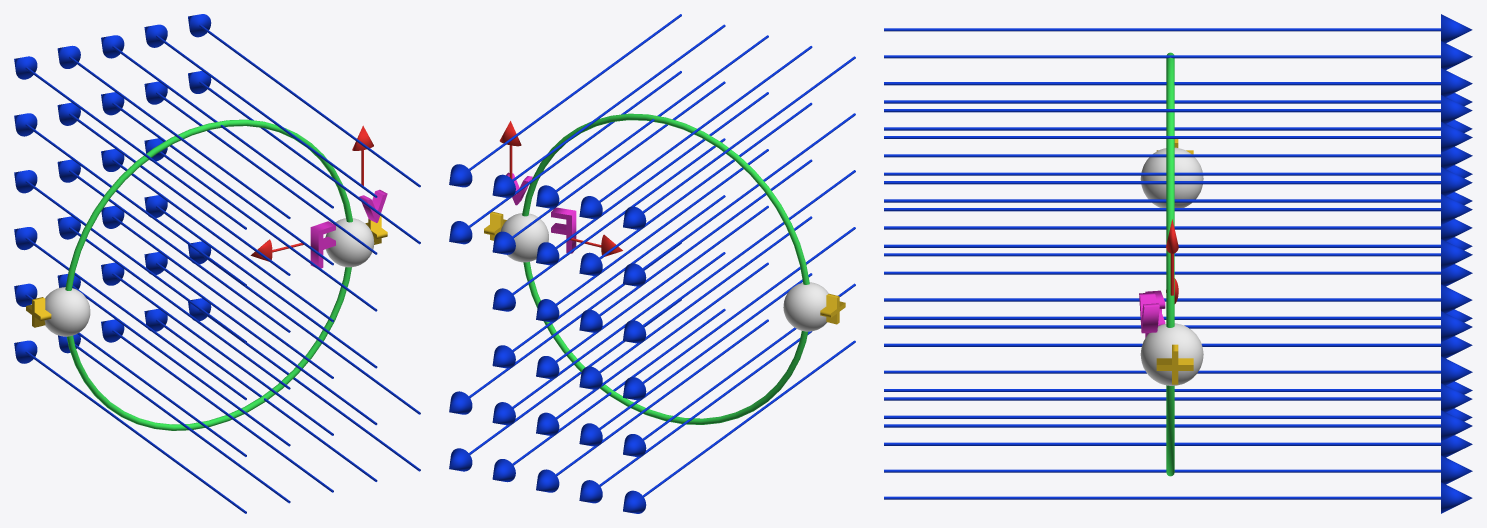
Rendered from Circular_motion.glb.
3 renders of one model, left to right at view 1: azimuth 30°, elevation 25°; view 2: azimuth 150°, elevation 25°; view 3: azimuth 270°, elevation 25°, orthographic. The views are drawn at different scales.
Parts seen in each view (by area): view 1: Torus.003, Sphere.001, Sphere, Surface.028, Surface.002, Surface.141, Surface.001, Surface.008, Surface.027, Surface.030, Surface.157, Surface.026 (+22 smaller); view 2: Torus.003, Sphere.001, Sphere, Surface.026, Surface.028, Surface.157, Surface.027, Surface.030, Surface.001, Surface.024, Surface.141, Surface.007 (+21 smaller); view 3: Torus.003, Sphere, Sphere.001, Surface.149, Surface.026, Surface.030, Surface.028, Surface.002, Surface.003, Surface.016, Surface.022, Surface.024 (+21 smaller).
Boxes of the visible parts, x1,y1,x2,y2 form: Torus.003: [65, 119, 352, 430]; Sphere.001: [44, 287, 90, 336]; Sphere: [325, 218, 374, 267]; Surface.028: [69, 56, 290, 219]; Surface.002: [156, 262, 377, 425]; Surface.141: [112, 330, 333, 492]; Surface.001: [112, 273, 333, 435]; Surface.008: [156, 205, 377, 368]; Surface.027: [199, 24, 420, 187]; Surface.030: [25, 67, 246, 229]; Surface.157: [25, 351, 246, 513]; Surface.026: [156, 35, 377, 197]; Torus.003: [522, 113, 809, 424]; Sphere.001: [783, 282, 828, 331]; Sphere: [500, 213, 548, 262]; Surface.026: [512, 24, 725, 181]; Surface.028: [599, 46, 812, 202]; Surface.157: [642, 340, 855, 497]; Surface.027: [469, 14, 681, 170]; Surface.030: [643, 56, 855, 212]; Surface.001: [556, 262, 768, 419]; Surface.024: [642, 113, 855, 269]; Surface.141: [556, 319, 768, 475]; Surface.007: [556, 205, 768, 362]; Torus.003: [1166, 52, 1174, 476]; Sphere: [1140, 323, 1203, 385]; Sphere.001: [1140, 147, 1203, 207]; Surface.149: [884, 496, 1440, 499]; Surface.026: [884, 109, 1440, 112]; Surface.030: [884, 28, 1440, 31]; Surface.028: [884, 55, 1440, 58]; Surface.002: [884, 397, 1440, 400]; Surface.003: [884, 424, 1440, 427]; Surface.016: [884, 199, 1440, 202]; Surface.022: [884, 127, 1440, 130]; Surface.024: [884, 100, 1440, 103].
Size of the model in its own units: 6.4 by 5.47 by 7.41.
